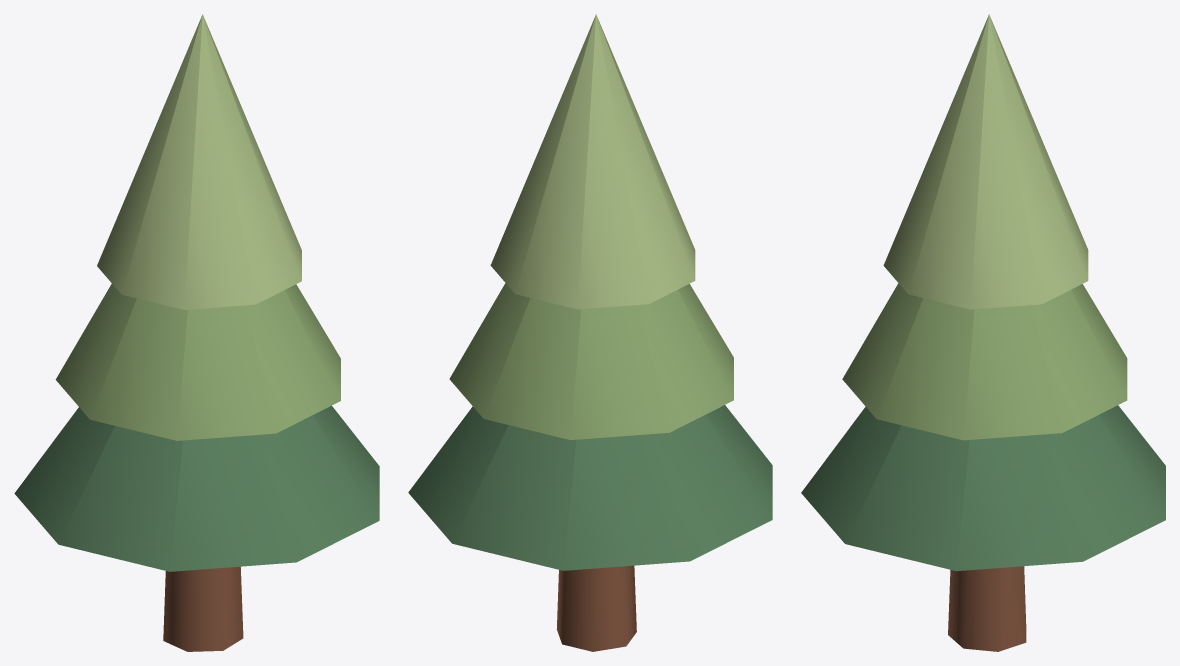
File: pine.glb
The picture shows the model from 3 angles, left to right: view 1: azimuth 30°, elevation 25°; view 2: azimuth 150°, elevation 25°; view 3: azimuth 270°, elevation 25°; orthographic projection.
Parts seen in each view (by area): view 1: surface_#577d5b, surface_#b0c58a, surface_#8da970, surface_#936047; view 2: surface_#577d5b, surface_#b0c58a, surface_#8da970, surface_#936047; view 3: surface_#577d5b, surface_#b0c58a, surface_#8da970, surface_#936047.
Part boxes in pixels (x1,y1,x2,y2): surface_#577d5b: (14, 405, 379, 571); surface_#b0c58a: (97, 14, 301, 309); surface_#8da970: (55, 283, 340, 440); surface_#936047: (163, 566, 243, 651); surface_#577d5b: (408, 405, 772, 570); surface_#b0c58a: (490, 14, 695, 309); surface_#8da970: (449, 283, 733, 439); surface_#936047: (556, 565, 636, 651); surface_#577d5b: (801, 405, 1165, 571); surface_#b0c58a: (883, 14, 1088, 309); surface_#8da970: (842, 283, 1127, 440); surface_#936047: (948, 566, 1026, 651).
Bounding box in the file's own units: 2.07 × 3.83 × 2.04.
